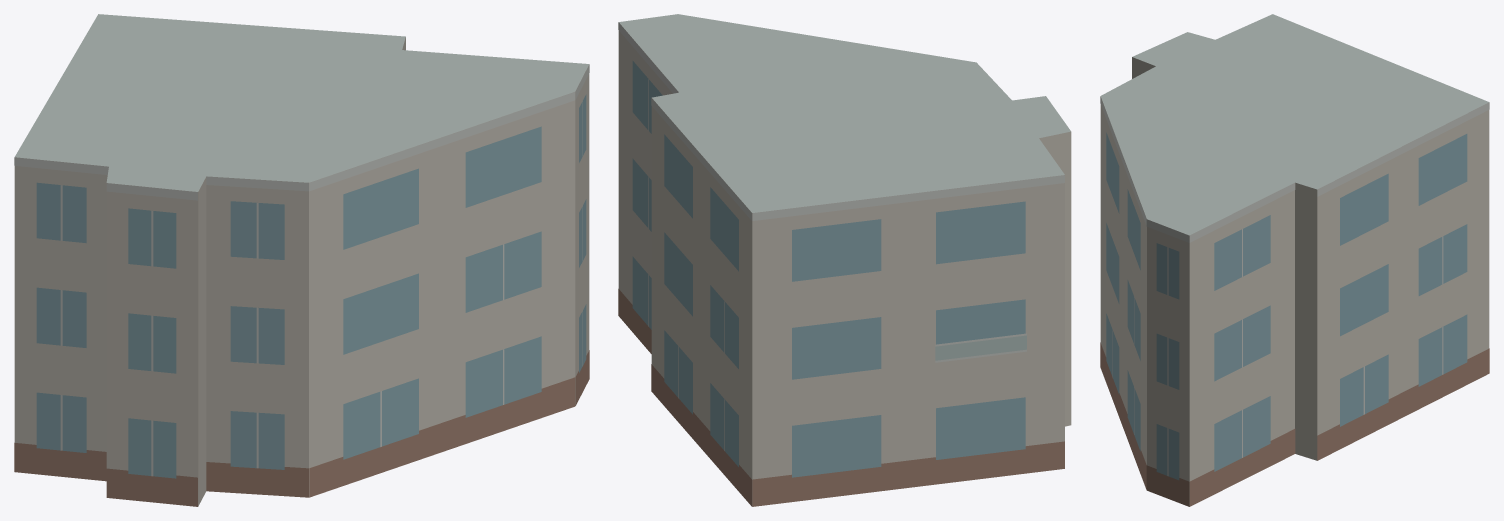
File: survey-upis-32494012.glb
The picture shows the model from 3 angles, left to right: view 1: azimuth 30°, elevation 25°; view 2: azimuth 150°, elevation 25°; view 3: azimuth 270°, elevation 25°; orthographic projection. The views are drawn at different scales.
Parts seen in each view (by area): view 1: survey-upis-32494012.tmp; view 2: survey-upis-32494012.tmp; view 3: survey-upis-32494012.tmp.
Boxes of the visible parts, <box> form: survey-upis-32494012.tmp: <box>14,14,589,506</box>; survey-upis-32494012.tmp: <box>618,14,1071,506</box>; survey-upis-32494012.tmp: <box>1100,14,1489,506</box>.
Bounding box in the file's own units: 15.59 × 8.9 × 11.57.
